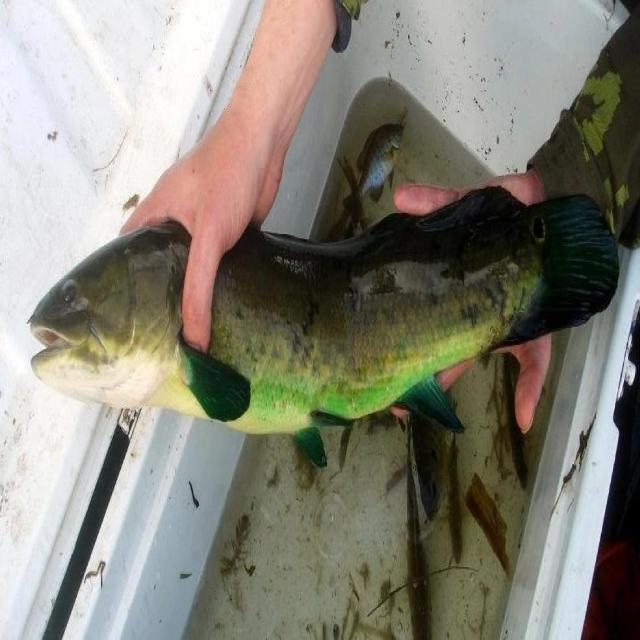Bowfin: (30, 188, 618, 464)
